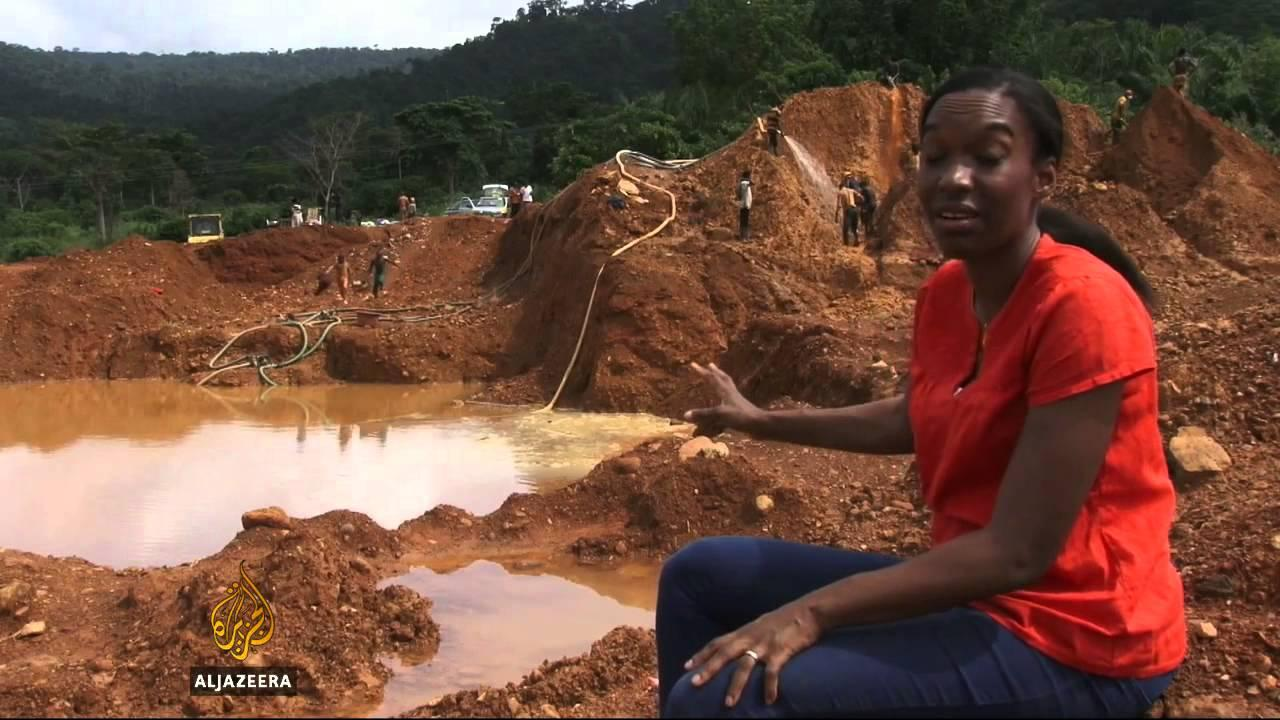ExcavationMachinery: (185, 211, 223, 243)
MiningTool: (351, 278, 368, 293), (735, 181, 743, 201)
Person: (656, 70, 1192, 718), (833, 183, 864, 247), (364, 249, 400, 298), (1168, 47, 1199, 98), (736, 170, 756, 240), (1111, 88, 1135, 146), (325, 254, 352, 304), (860, 181, 879, 236), (768, 101, 785, 159), (884, 56, 900, 86), (509, 182, 521, 216), (289, 200, 304, 227), (397, 191, 409, 224), (520, 181, 534, 202), (408, 196, 417, 219), (846, 179, 861, 191)
Vehicle: (458, 184, 511, 220)
